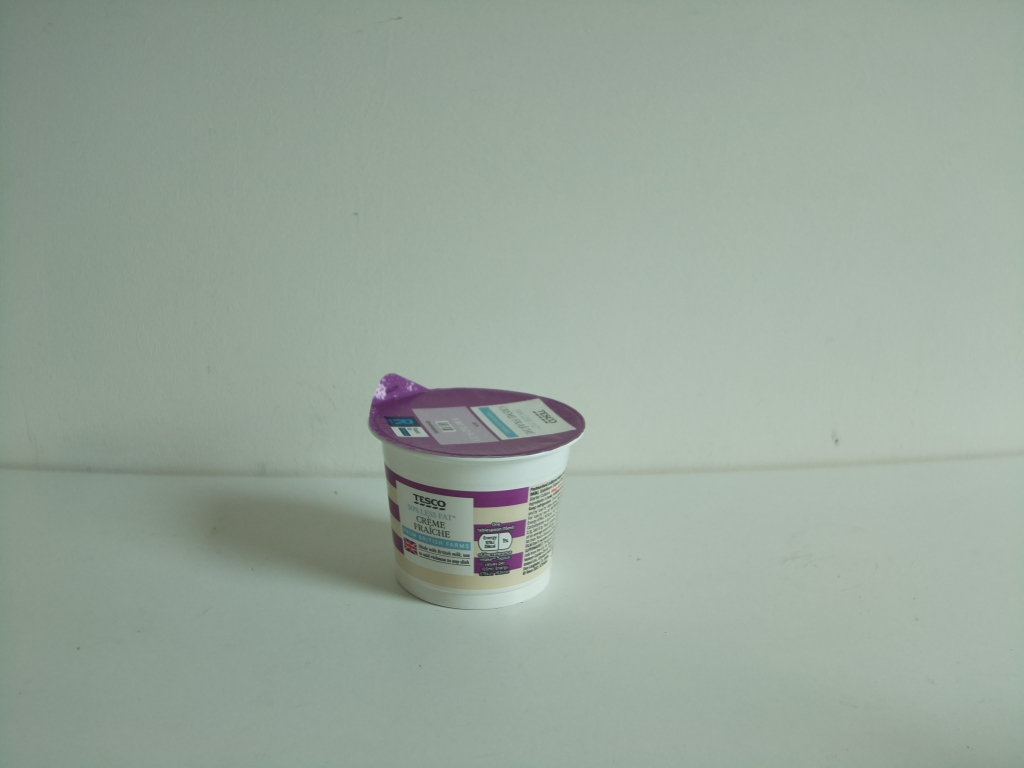cream: (359, 368, 584, 605)
